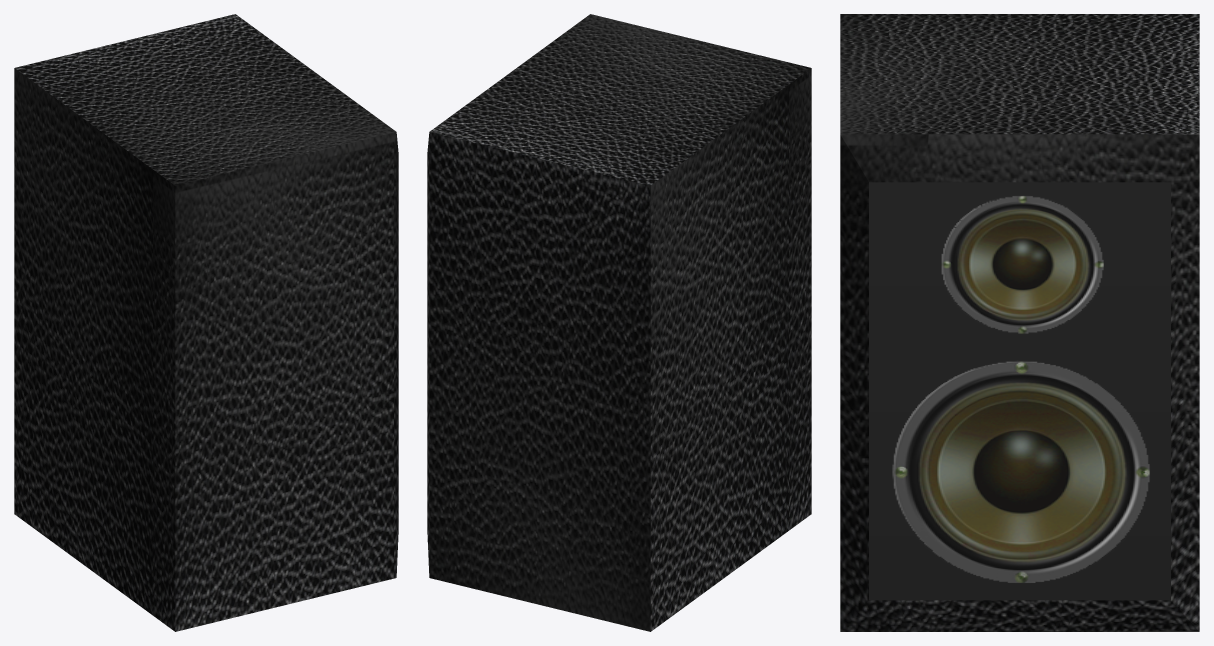
Rendered from Speaker.obj.
The picture shows the model from 3 angles, left to right: view 1: azimuth 30°, elevation 25°; view 2: azimuth 150°, elevation 25°; view 3: azimuth 270°, elevation 25°; orthographic projection. The views are drawn at different scales.
Parts seen in each view (by area): view 1: pCube1; view 2: pCube1; view 3: pCube1.
Boxes of the visible parts, x1=… form: pCube1: x1=14, y1=14, x2=398, y2=631; pCube1: x1=427, y1=14, x2=811, y2=631; pCube1: x1=840, y1=14, x2=1199, y2=631.
Bounding box in the file's own units: 2.11 × 3.81 × 2.5.
Materials: 1 (1 with a texture image).
